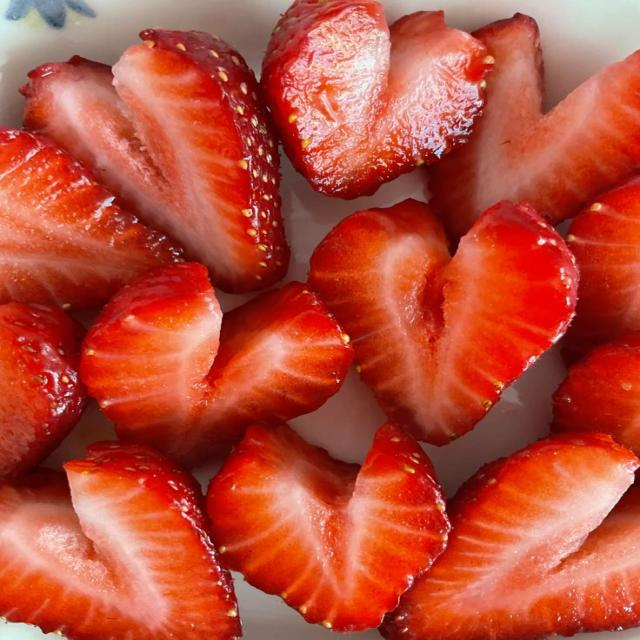strawberry sliced: (23, 30, 288, 292), (309, 200, 577, 444), (82, 263, 353, 465), (383, 434, 639, 639), (207, 424, 449, 631), (0, 443, 240, 639), (430, 14, 639, 236), (262, 0, 491, 198), (0, 128, 179, 309), (0, 303, 86, 478), (564, 177, 639, 360), (553, 333, 639, 454)
